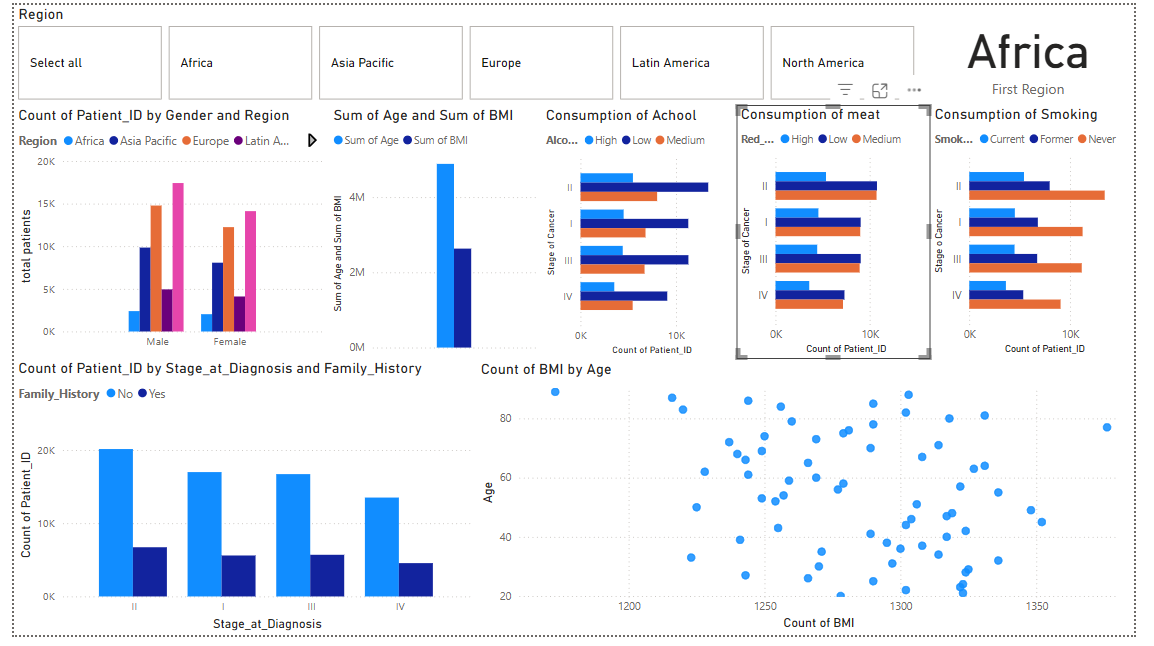

What the dashboard file says about the page in this screenshot:
{"tool":"powerbi","page":{"name":"Page 1","canvas":[1280,720],"ordinal":0},"visuals":[{"type":"clusteredColumnChart","fields":{"Y":["CountNonNull(colorectal_cancer_prediction.Patient_ID)"],"Category":["colorectal_cancer_prediction.Gender"],"Series":["colorectal_cancer_prediction.Region"]},"box":[0,116.2,360,287.5],"z":0},{"type":"card","fields":{"Values":["Min(colorectal_cancer_prediction.Region)"]},"box":[1038.8,0,241.2,113.8],"z":1000},{"type":"advancedSlicerVisual","fields":{"Values":["colorectal_cancer_prediction.Region"]},"box":[0,0,1038.8,113.8],"z":2000},{"type":"clusteredColumnChart","fields":{"Y":["Sum(colorectal_cancer_prediction.Age)","Sum(colorectal_cancer_prediction.BMI)"]},"box":[360,116.2,242.5,290],"z":3000},{"type":"clusteredColumnChart","fields":{"Category":["colorectal_cancer_prediction.Stage_at_Diagnosis"],"Series":["colorectal_cancer_prediction.Family_History"],"Y":["CountNonNull(colorectal_cancer_prediction.Patient_ID)"]},"box":[0,404.3,528.6,315.7],"z":4000},{"type":"clusteredBarChart","title":"Consumption of Achool","fields":{"Category":["colorectal_cancer_prediction.Stage_at_Diagnosis"],"Y":["CountNonNull(colorectal_cancer_prediction.Patient_ID)"],"Series":["colorectal_cancer_prediction.Alcohol_Consumption"]},"box":[602.5,116.2,223.8,290],"z":5000},{"type":"clusteredBarChart","title":"Consumption of  meat","fields":{"Category":["colorectal_cancer_prediction.Stage_at_Diagnosis"],"Y":["CountNonNull(colorectal_cancer_prediction.Patient_ID)"],"Series":["colorectal_cancer_prediction.Red_Meat_Consumption"]},"box":[826.2,113.8,221.2,290],"z":6000},{"type":"clusteredBarChart","title":"Consumption of Smoking","fields":{"Category":["colorectal_cancer_prediction.Stage_at_Diagnosis"],"Y":["CountNonNull(colorectal_cancer_prediction.Patient_ID)"],"Series":["colorectal_cancer_prediction.Smoking_Status"]},"box":[1047.5,113.8,232.5,290],"z":7000},{"type":"scatterChart","fields":{"X":["CountNonNull(colorectal_cancer_prediction.BMI)"],"Y":["colorectal_cancer_prediction.Age"]},"box":[528.8,406.2,751.2,313.8],"z":8000}]}

Visuals, with their boxes in screenshot pixels (x1, y1, x2, y2), scaled from the page's 1280x720 canvas onto the 1154x646 screenshot:
clusteredColumnChart - CountNonNull(colorectal_cancer_prediction.Patient_ID) x colorectal_cancer_prediction.Gender: x1=0 y1=104 x2=325 y2=362
card - Min(colorectal_cancer_prediction.Region): x1=937 y1=0 x2=1153 y2=102
advancedSlicerVisual - colorectal_cancer_prediction.Region: x1=0 y1=0 x2=937 y2=102
clusteredColumnChart - Sum(colorectal_cancer_prediction.Age) x Sum(colorectal_cancer_prediction.BMI): x1=325 y1=104 x2=543 y2=364
clusteredColumnChart - colorectal_cancer_prediction.Stage_at_Diagnosis x colorectal_cancer_prediction.Family_History: x1=0 y1=363 x2=477 y2=645
"Consumption of Achool" clusteredBarChart: x1=543 y1=104 x2=745 y2=364
"Consumption of  meat" clusteredBarChart: x1=745 y1=102 x2=944 y2=362
"Consumption of Smoking" clusteredBarChart: x1=944 y1=102 x2=1153 y2=362
scatterChart - CountNonNull(colorectal_cancer_prediction.BMI) x colorectal_cancer_prediction.Age: x1=477 y1=364 x2=1153 y2=645
